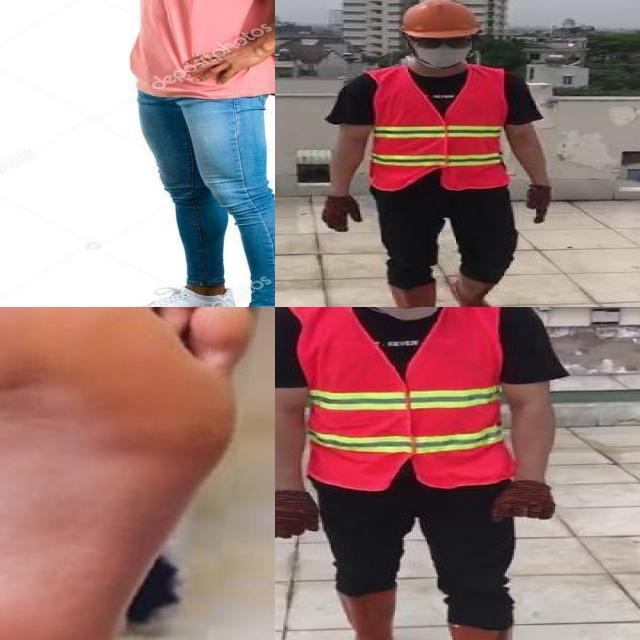Barefoots: (0, 307, 275, 640)
boots: (334, 591, 396, 640), (450, 272, 504, 307), (386, 283, 438, 307)
face_mask: (412, 30, 476, 71)
glasses: (410, 34, 474, 52)
hand_glove: (493, 479, 553, 524), (275, 490, 318, 540), (319, 195, 362, 233), (526, 185, 550, 225)
hand_noglove: (181, 22, 275, 89)
head_helmet: (394, 0, 483, 38)
person: (275, 307, 580, 640), (318, 0, 558, 307), (111, 0, 275, 307)
vest: (285, 307, 516, 488), (367, 67, 511, 193)
